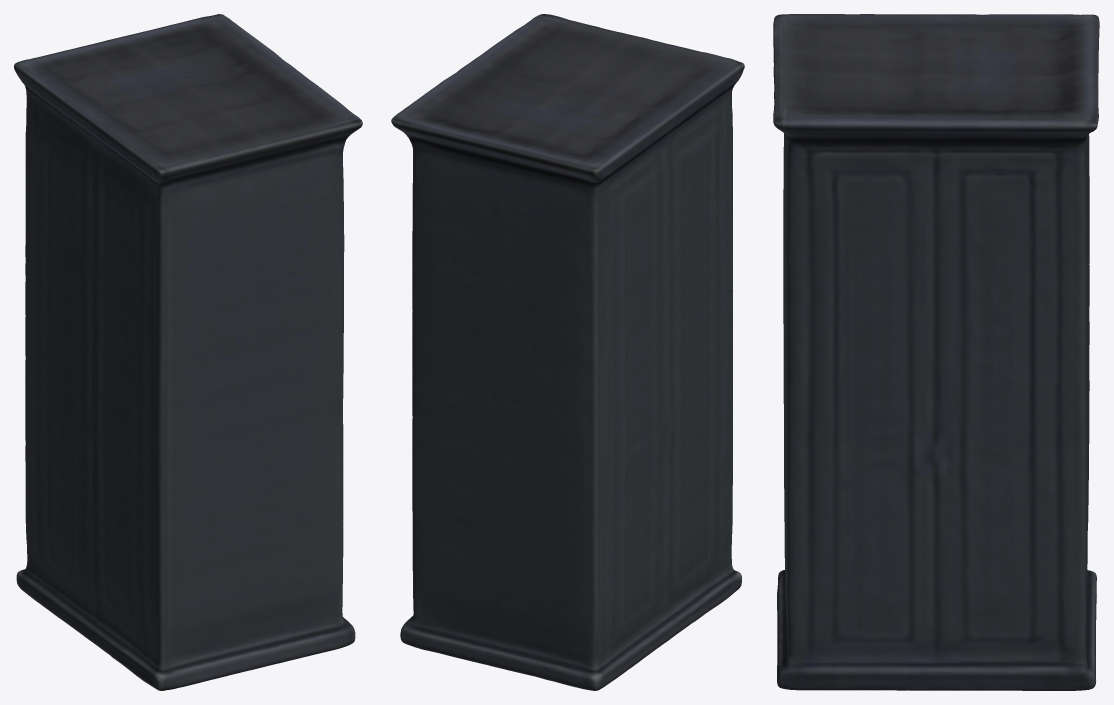
The model's file is 53518ad6d6d0_gray_closed_closet_.fbx.
3 views of the same model, side by side, from view 1: azimuth 30°, elevation 25°; view 2: azimuth 150°, elevation 25°; view 3: azimuth 270°, elevation 25° (orthographic). The views are drawn at different scales.
Visible parts, largest first — view 1: high_poly; view 2: high_poly; view 3: high_poly.
Part boxes in pixels (left/top/right/bottom): high_poly: left=14, top=14, right=362, bottom=690; high_poly: left=391, top=14, right=744, bottom=690; high_poly: left=773, top=14, right=1099, bottom=690.
Bounding box in the file's own units: 41.74 × 100 × 51.52.
